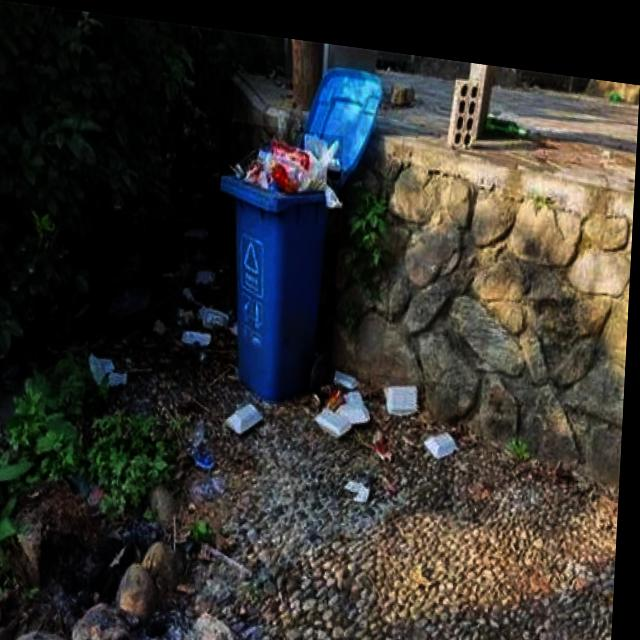garbage: (86, 207, 276, 469), (316, 357, 463, 499)
overflow: (212, 114, 344, 398)
